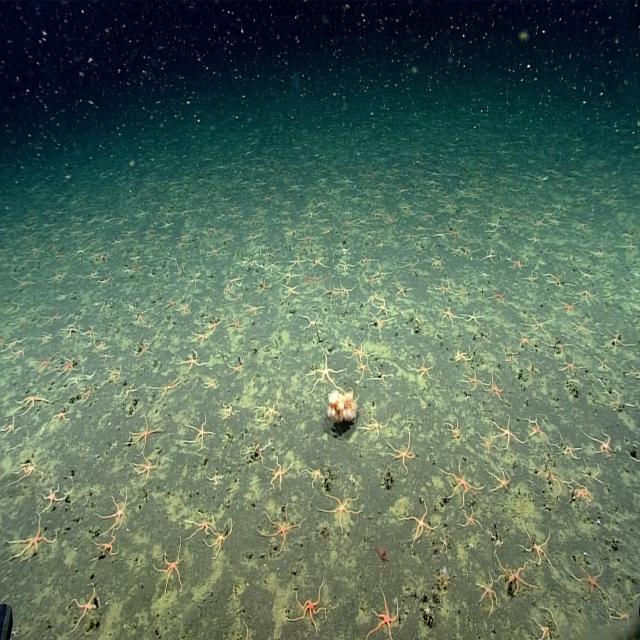brittle-stars: (3, 503, 72, 567), (284, 558, 346, 627), (257, 494, 314, 554), (362, 574, 408, 640), (565, 530, 613, 592), (432, 448, 488, 498), (401, 482, 442, 548), (63, 576, 113, 630), (512, 522, 564, 570), (158, 528, 193, 594), (482, 397, 526, 447), (303, 348, 350, 394), (322, 480, 366, 529), (599, 578, 640, 630), (183, 404, 218, 460), (493, 555, 540, 596), (385, 422, 420, 476), (208, 509, 244, 558), (96, 483, 135, 528), (124, 413, 169, 452), (518, 403, 559, 444), (131, 448, 170, 491), (266, 444, 298, 496), (186, 494, 224, 537), (8, 449, 46, 491), (148, 370, 186, 411), (10, 385, 56, 418), (484, 452, 516, 496), (596, 376, 635, 410), (41, 476, 78, 511), (250, 392, 288, 425), (477, 556, 501, 608), (359, 405, 399, 436), (127, 331, 162, 366), (527, 459, 564, 492), (618, 425, 640, 479), (249, 423, 276, 464), (298, 456, 332, 488), (456, 495, 486, 531), (412, 347, 442, 383), (515, 314, 556, 340), (90, 528, 123, 560), (550, 425, 583, 455), (174, 351, 211, 376), (100, 358, 128, 391), (581, 419, 614, 447), (352, 350, 378, 385), (480, 368, 510, 398), (30, 348, 58, 380), (428, 300, 462, 326), (458, 362, 489, 390), (603, 324, 635, 351), (359, 311, 396, 334), (584, 347, 613, 376), (0, 413, 27, 444), (118, 375, 140, 413), (448, 337, 479, 363), (50, 402, 75, 434), (575, 452, 608, 476), (184, 327, 218, 350), (548, 293, 582, 316), (532, 610, 558, 640), (6, 342, 31, 373), (218, 394, 242, 426), (1, 327, 29, 354), (566, 473, 593, 501), (43, 268, 72, 294), (71, 386, 101, 411), (387, 275, 417, 300), (54, 355, 82, 381), (537, 331, 570, 353), (8, 272, 37, 297), (226, 351, 250, 381), (28, 329, 59, 351), (472, 423, 497, 450), (347, 334, 371, 362), (222, 312, 246, 339), (100, 341, 117, 379), (446, 408, 466, 440), (555, 352, 584, 374), (510, 327, 536, 351), (332, 253, 359, 276), (485, 523, 507, 551), (619, 352, 640, 381), (206, 462, 230, 487), (38, 306, 62, 331), (371, 296, 396, 320), (567, 321, 600, 339), (295, 311, 326, 330), (571, 280, 599, 300), (74, 268, 102, 288), (372, 364, 396, 387), (299, 269, 325, 290), (540, 270, 570, 288), (430, 274, 451, 299), (61, 321, 87, 341), (483, 285, 510, 304), (176, 299, 198, 322), (462, 306, 485, 328), (396, 252, 421, 272), (277, 283, 303, 302), (322, 280, 341, 306), (244, 298, 268, 318), (334, 278, 358, 298), (426, 248, 445, 273), (516, 265, 541, 284), (96, 268, 115, 293), (202, 245, 228, 263), (450, 277, 470, 300), (477, 244, 500, 264), (503, 250, 526, 270), (223, 271, 247, 290), (352, 251, 378, 268), (521, 354, 542, 375), (201, 372, 223, 392), (252, 278, 274, 298), (498, 345, 522, 363), (277, 266, 302, 283), (133, 306, 151, 329), (202, 222, 222, 242), (242, 229, 262, 249), (307, 254, 329, 272), (170, 238, 192, 256), (95, 334, 110, 359), (296, 229, 317, 246), (185, 272, 204, 290), (173, 260, 190, 280), (13, 313, 34, 329), (437, 534, 452, 556), (364, 286, 379, 308), (70, 372, 87, 391), (207, 314, 226, 331), (165, 292, 179, 315), (266, 258, 282, 278), (86, 322, 98, 348), (230, 290, 246, 309), (84, 366, 97, 388), (361, 275, 383, 288), (286, 256, 306, 270), (469, 266, 492, 278), (124, 300, 139, 318), (233, 256, 250, 270), (145, 319, 159, 333), (223, 286, 237, 298), (249, 258, 259, 272)
